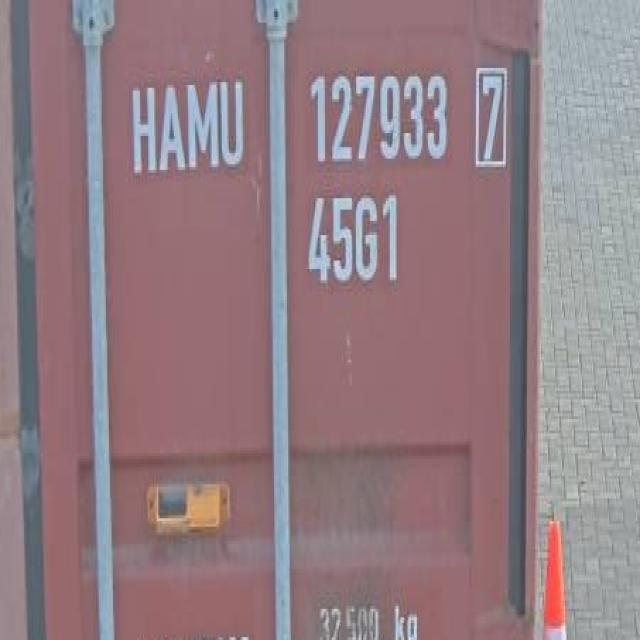dv: (472, 62, 510, 173)
owner: (120, 58, 252, 197)
serial: (304, 58, 453, 171)
size: (301, 182, 404, 296)
